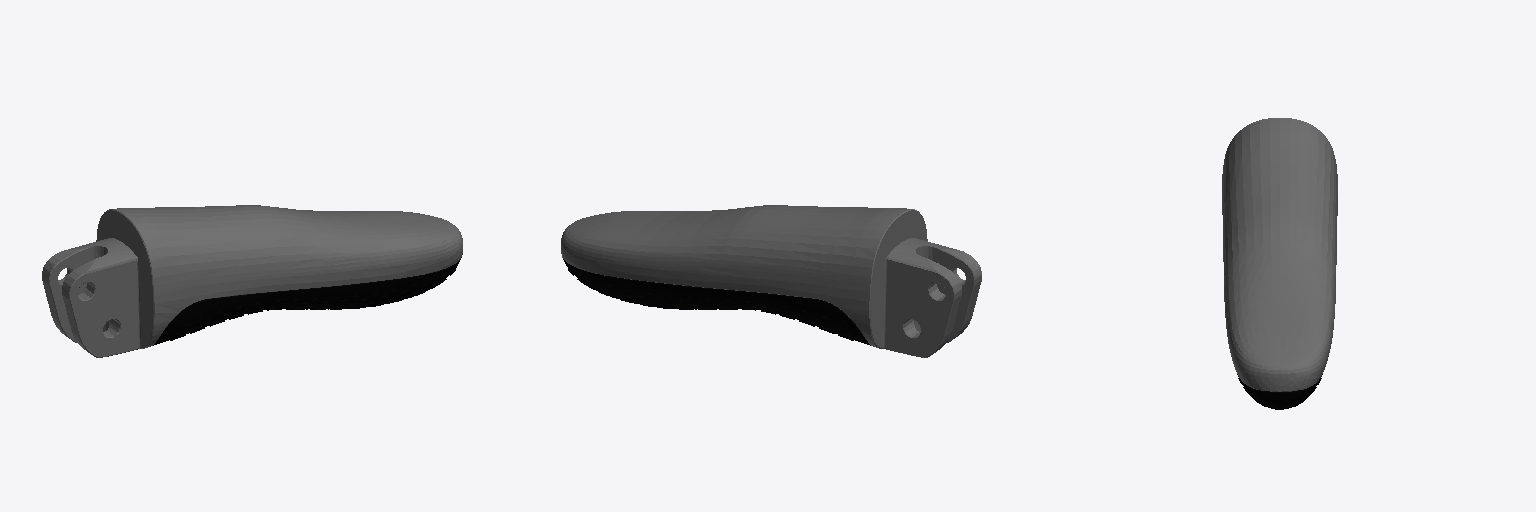
Rendered from L_middle_intermediate_link.obj.
3 views of the same model, side by side, from view 1: azimuth 30°, elevation 25°; view 2: azimuth 150°, elevation 25°; view 3: azimuth 270°, elevation 25° (orthographic).
Parts seen in each view (by area): view 1: L_middle_intermediate_link; view 2: L_middle_intermediate_link; view 3: L_middle_intermediate_link.
Part boxes in pixels (x1,y1,x2,y2): L_middle_intermediate_link: (42, 205, 462, 357); L_middle_intermediate_link: (561, 205, 981, 357); L_middle_intermediate_link: (1222, 118, 1337, 409).
Size of the model in its own units: 0.0579 by 0.0204 by 0.0145.